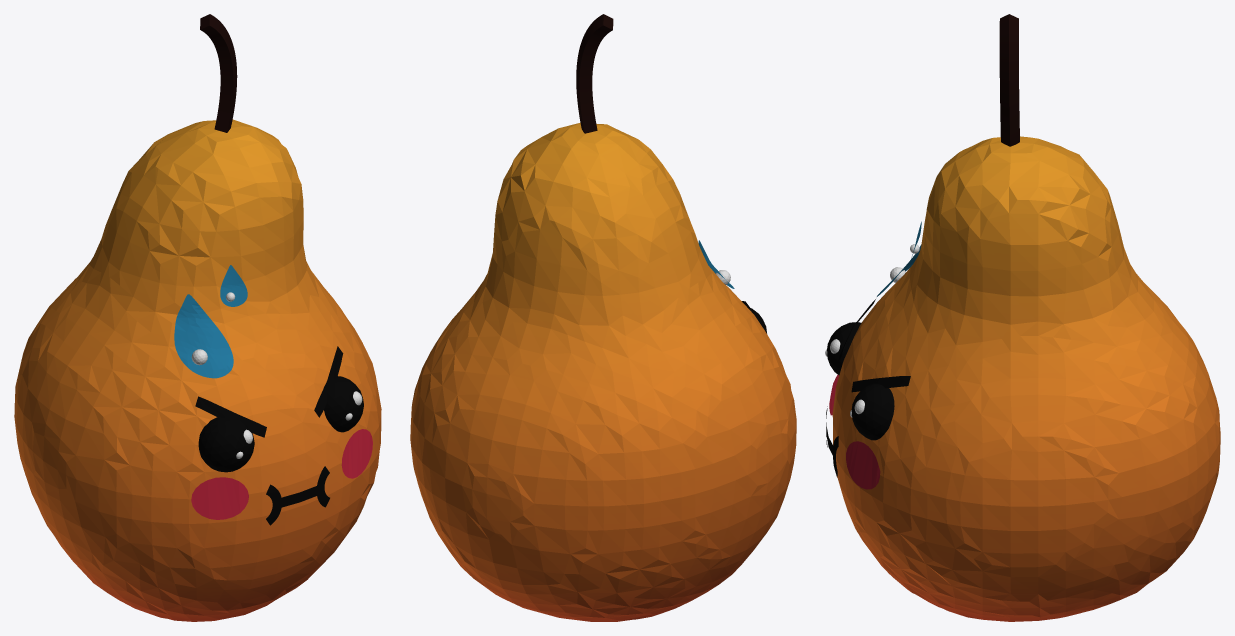
File: pear2.fbx
3 renders of one model, left to right at view 1: azimuth 30°, elevation 25°; view 2: azimuth 150°, elevation 25°; view 3: azimuth 270°, elevation 25°, orthographic.
Visible parts, largest first — view 1: file1; view 2: file1; view 3: file1.
Boxes of the visible parts, bbox=[...] form: file1: bbox=[14, 14, 381, 621]; file1: bbox=[410, 14, 796, 621]; file1: bbox=[825, 14, 1220, 621].
Bounding box in the file's own units: 178 × 309 × 185.
